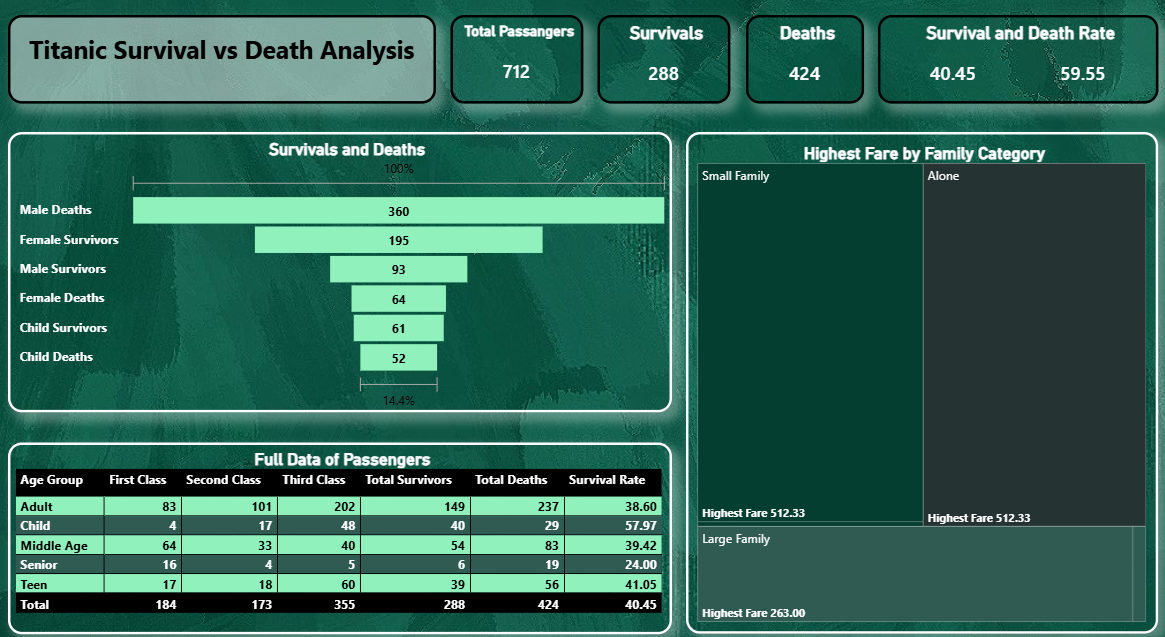

The dashboard page shown, as its layout file describes it:
{"tool":"powerbi","page":{"name":"Ds - 3","canvas":[1280,720],"ordinal":2},"visuals":[{"type":"textbox","box":[16,32,464,96],"z":0},{"type":"cardVisual","title":"Total Passangers","fields":{"Data":["train.Total Passengers"]},"box":[496,32,144,96],"z":1000},{"type":"cardVisual","title":"Survivals","fields":{"Data":["train.Total Survivors"]},"box":[656,32,144,96],"z":2000},{"type":"cardVisual","title":"Deaths","fields":{"Data":["train.Total Deaths"]},"box":[816,32,128,96],"z":3000},{"type":"cardVisual","title":"Survival  and Death Rate","fields":{"Data":["train.Survival Rate","train.Death Rate"]},"box":[960,32,304,96],"z":4000},{"type":"funnel","title":"Survivals and Deaths","fields":{"Y":["train.Male Deaths","train.Female Survivors","train.Male Survivors","train.Female Deaths","train.Child Survivors","train.Child Deaths"]},"box":[16,160,720,304],"z":5000},{"type":"tableEx","title":"Full Data of Passengers","fields":{"Values":["train.Age Group","train.First Class","train.Second Class","train.Third Class","train.Total Survivors","train.Total Deaths","train.Survival Rate"]},"box":[16,496,720,208],"z":6000},{"type":"treemap","title":"Highest Fare by Family Category","fields":{"Group":["train.Family Category","train.Fare","train.Gender"],"Values":["train.Highest Fare","train.Lowest Fare"]},"box":[752,160,512,544],"z":7000}]}

Visuals, with their boxes in screenshot pixels (x1, y1, x2, y2), scaled from the page's 1280x720 canvas onto the 1165x637 screenshot:
textbox: l=15, t=28, r=437, b=113
"Total Passangers" cardVisual: l=451, t=28, r=582, b=113
"Survivals" cardVisual: l=597, t=28, r=728, b=113
"Deaths" cardVisual: l=743, t=28, r=859, b=113
"Survival  and Death Rate" cardVisual: l=874, t=28, r=1150, b=113
"Survivals and Deaths" funnel: l=15, t=142, r=670, b=411
"Full Data of Passengers" tableEx: l=15, t=439, r=670, b=623
"Highest Fare by Family Category" treemap: l=684, t=142, r=1150, b=623
